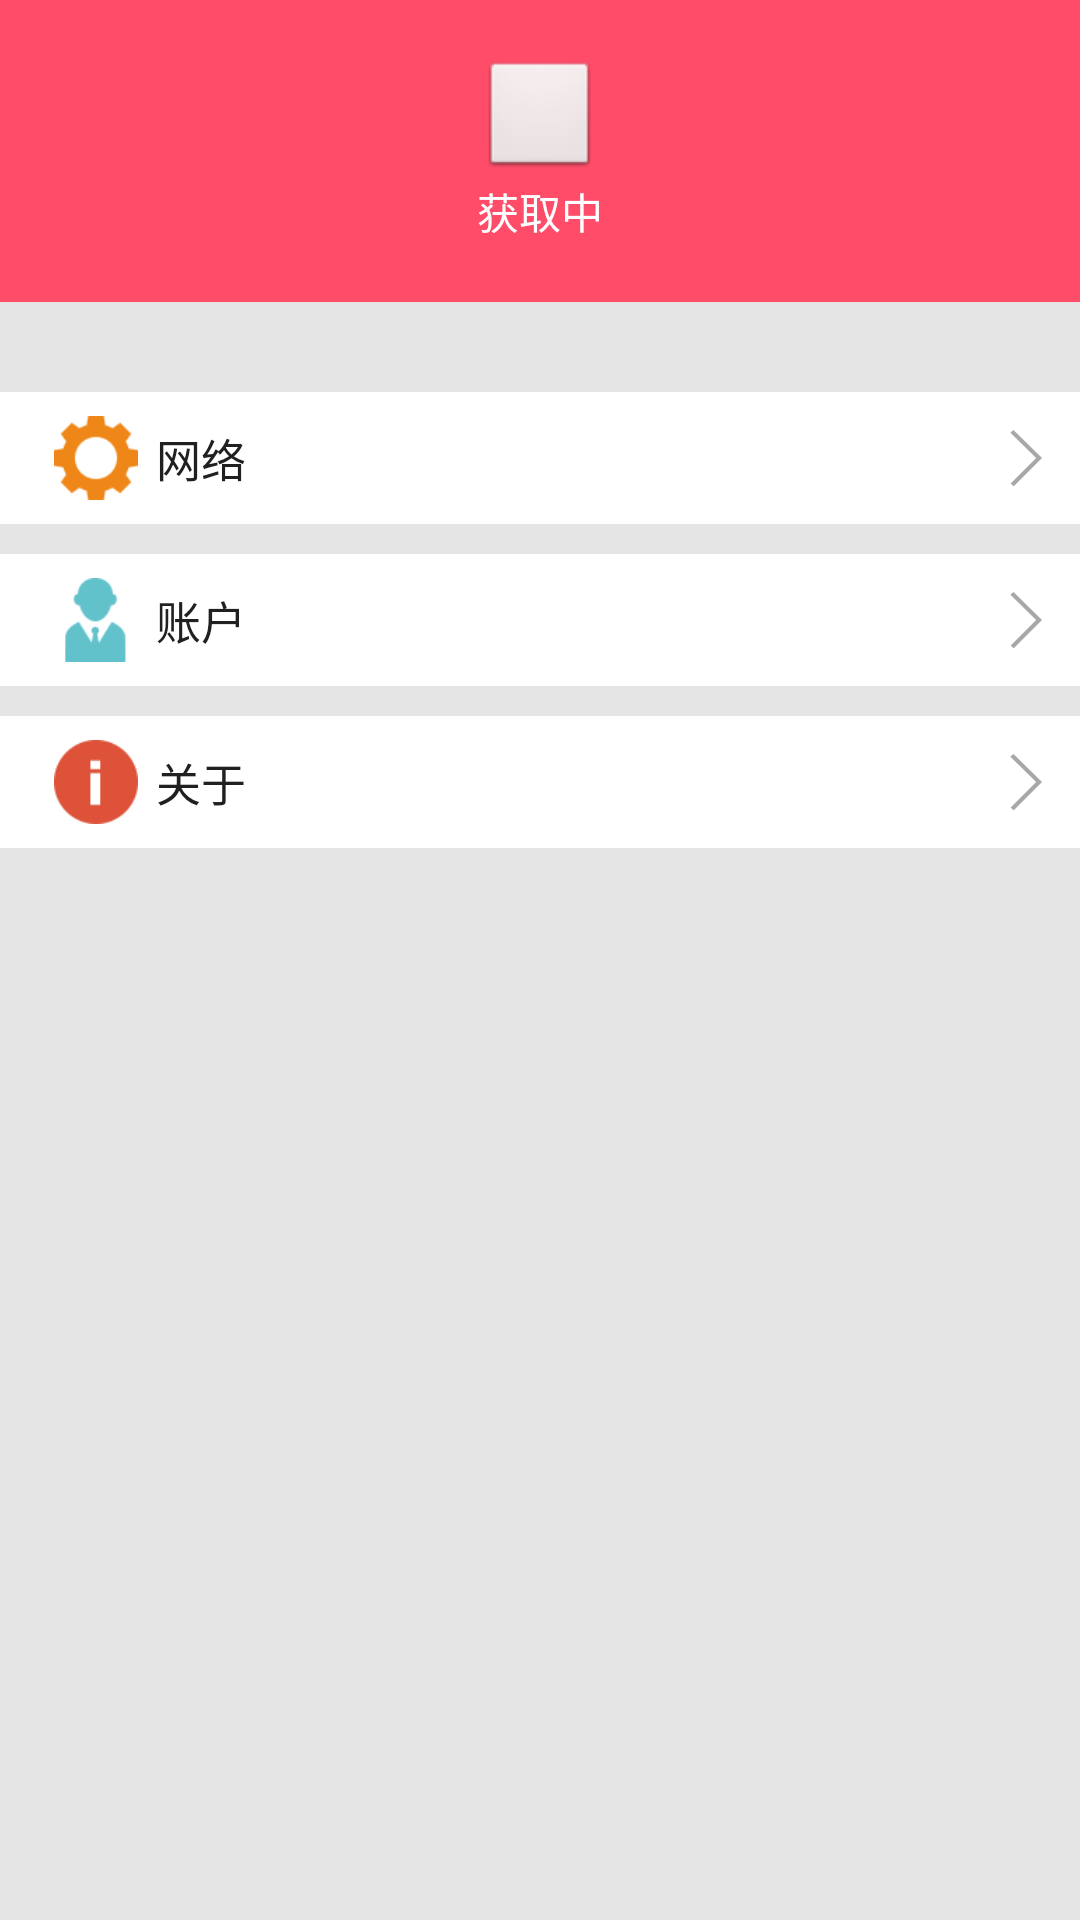

Icons on this 1080px×1920px Android screen, each with its box as (x1, y1, x2, y2):
moreitems about: (54, 740, 138, 824)
moreitems account: (65, 578, 126, 662)
moreitems arrow: (1010, 430, 1042, 486), (1010, 592, 1042, 648), (1010, 754, 1042, 810)
moreitems setting: (54, 416, 138, 500)
